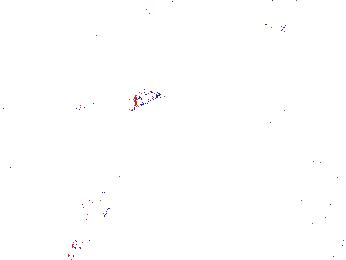X-ray fish: (65, 188, 91, 222)
glassfish: (69, 164, 131, 259), (68, 85, 163, 119)
red belly glassfish: (249, 14, 289, 37)
